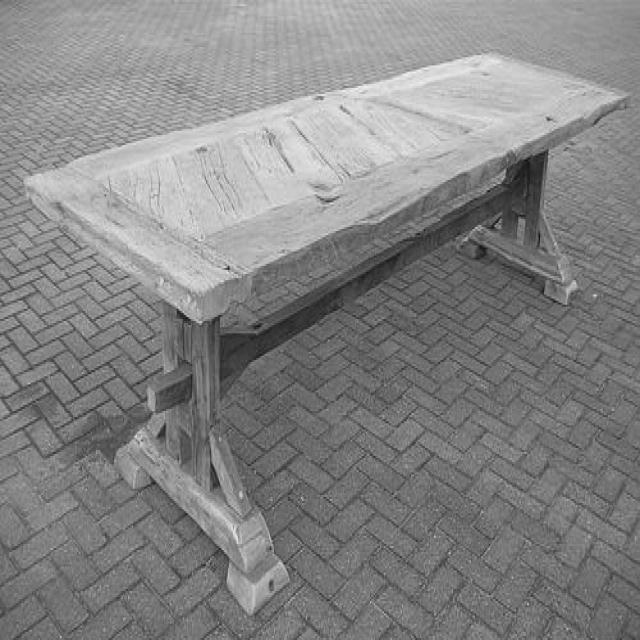table: (26, 51, 629, 615)
